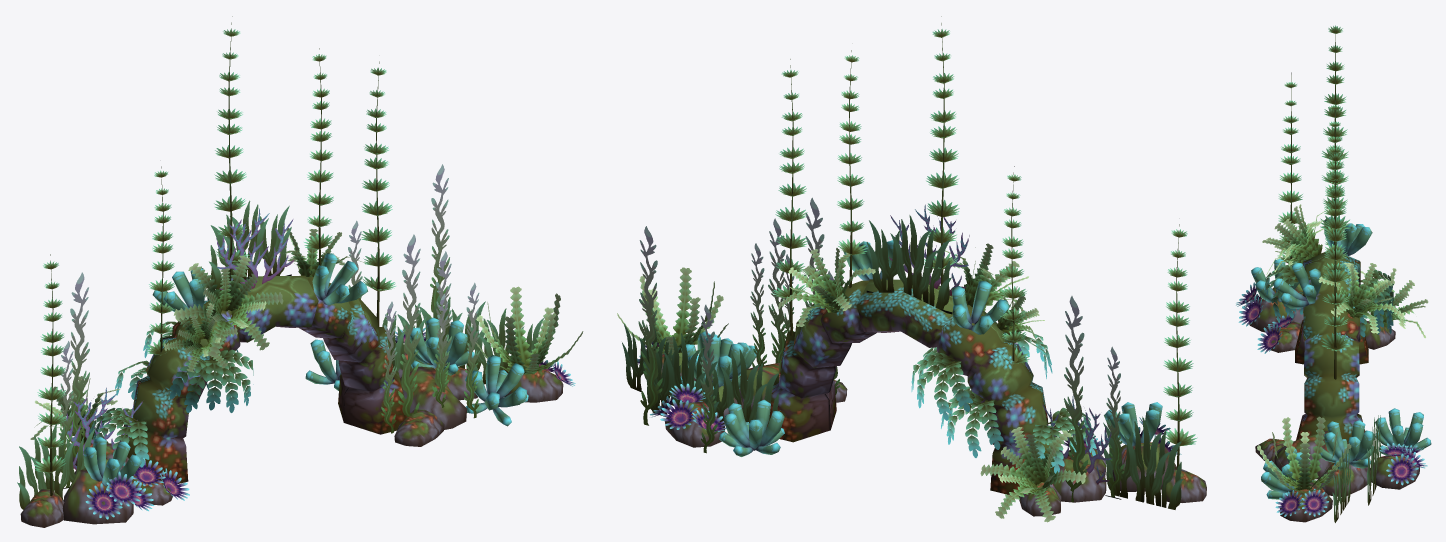
File: CoralArch.FBX
The picture shows the model from 3 angles, left to right: view 1: azimuth 30°, elevation 25°; view 2: azimuth 150°, elevation 25°; view 3: azimuth 270°, elevation 25°; orthographic projection. The views are drawn at different scales.
Visible parts, largest first — view 1: CoralArch; view 2: CoralArch; view 3: CoralArch.
Part boxes in pixels (box(x1,y1,x2,y2)): CoralArch: box(17, 16, 583, 527); CoralArch: box(617, 16, 1206, 522); CoralArch: box(1236, 25, 1431, 522).
Size of the model in its own units: 316 by 239 by 111.
